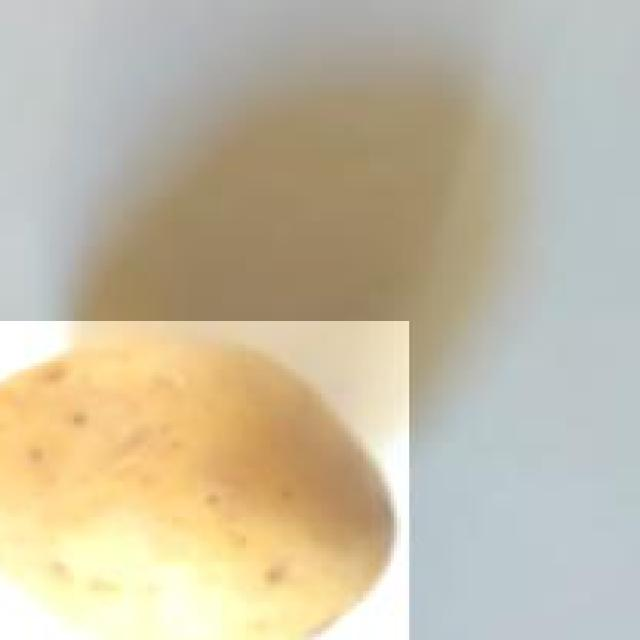potato: (0, 317, 409, 640)
